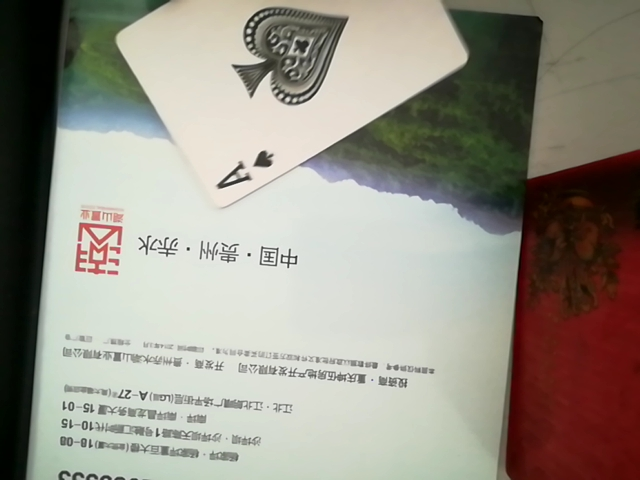ht a: (104, 1, 484, 209)
